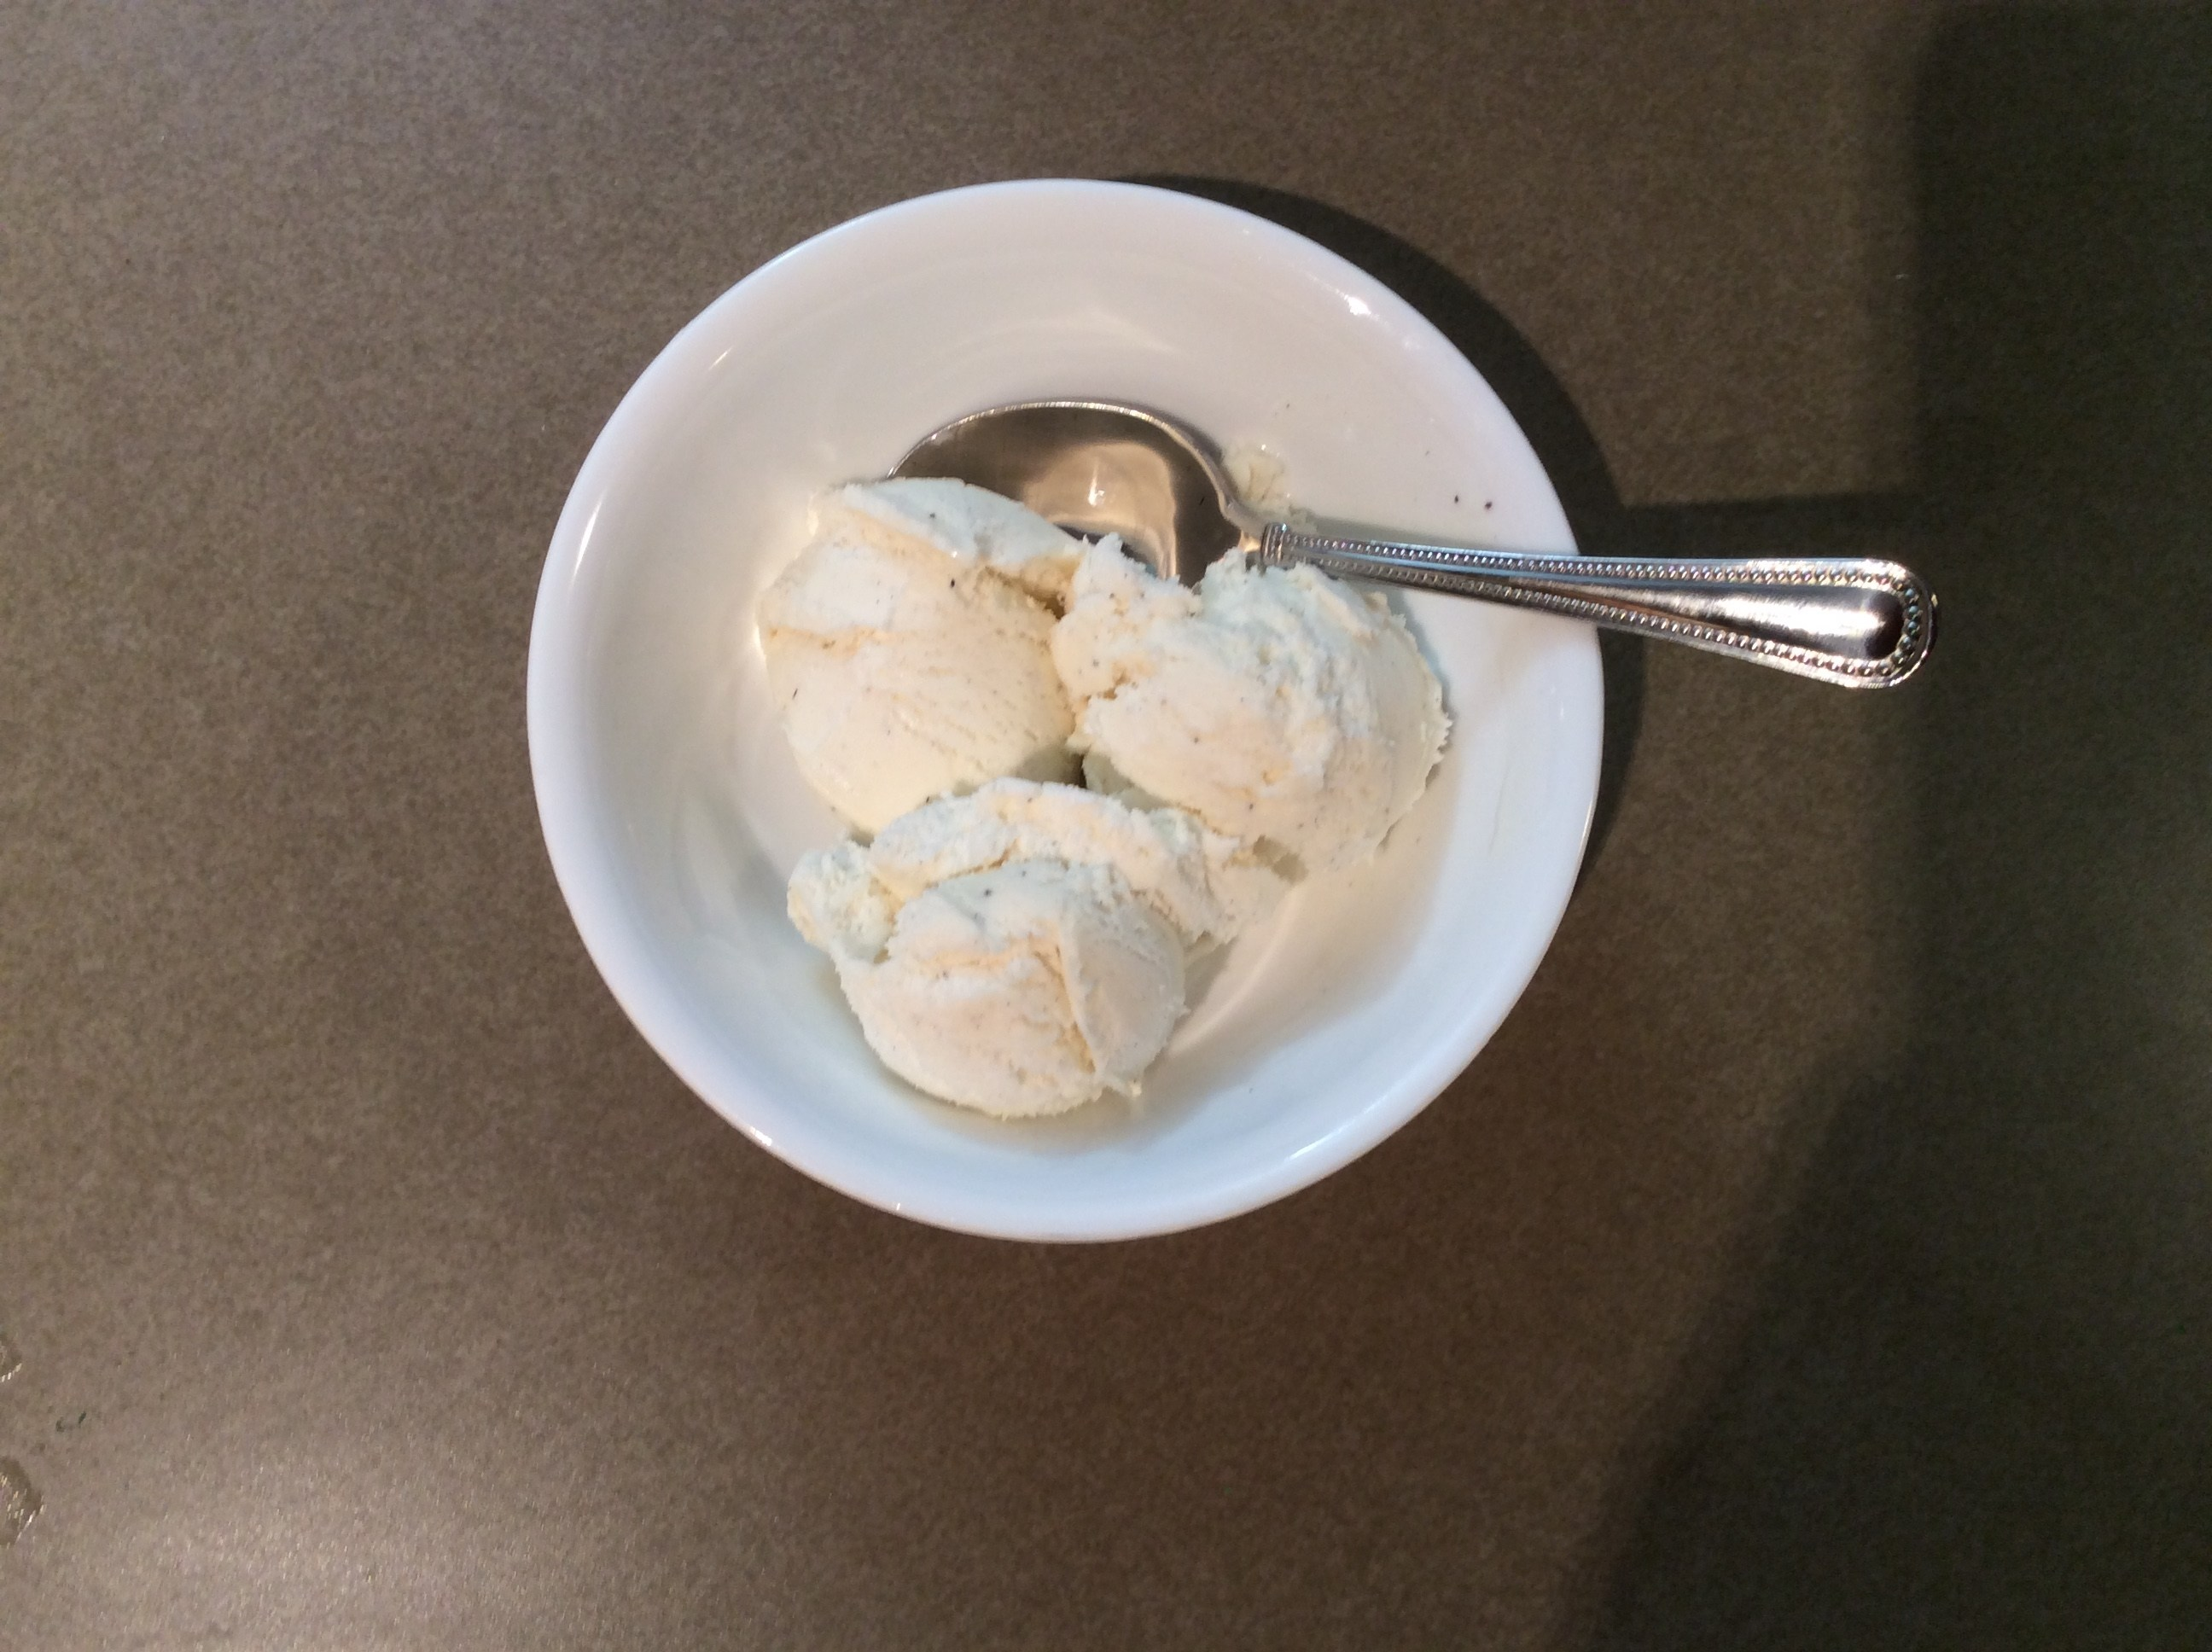ice-cream: (795, 781, 1214, 1118), (1074, 536, 1456, 883), (770, 484, 1105, 835)
